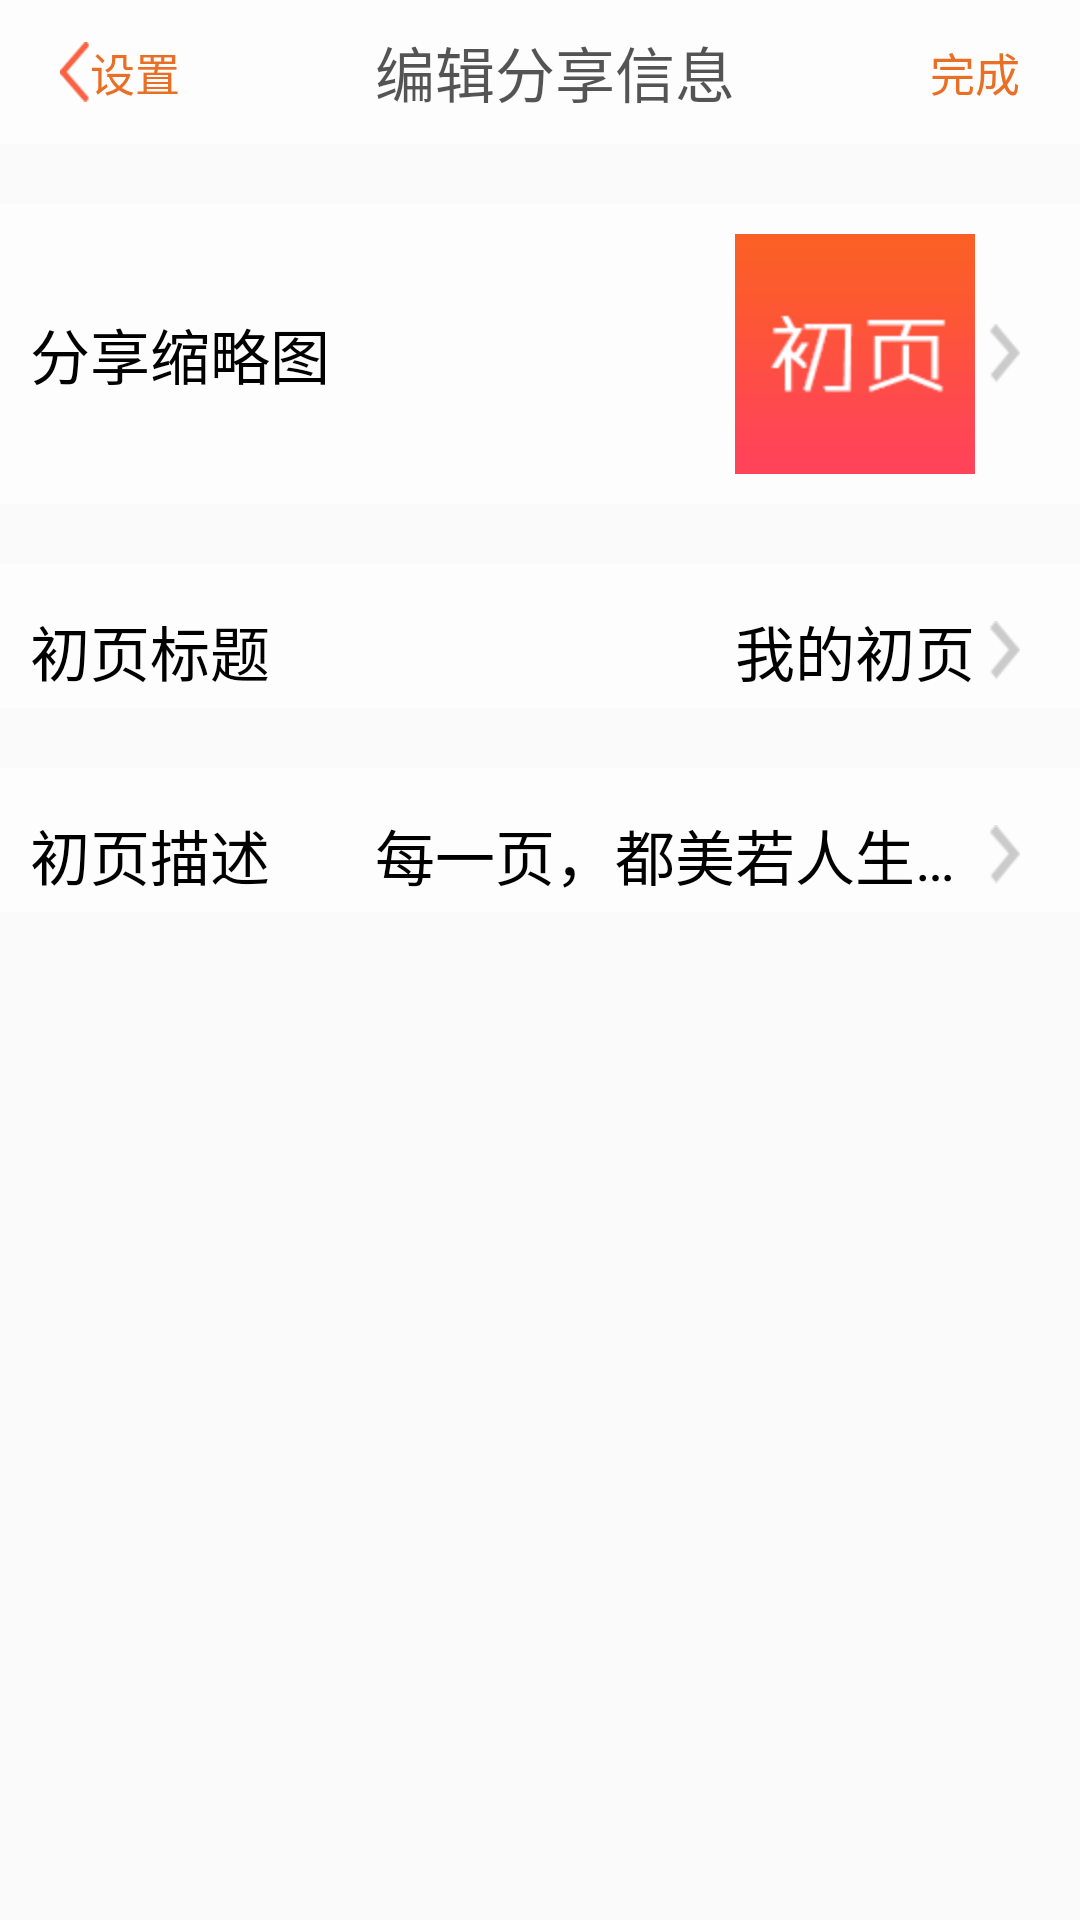

Named icons in this screenshot (1080x1920) and their bounding boxes, (x1, y1, x2, y2):
arrow: (990, 324, 1020, 381), (990, 621, 1020, 678), (990, 825, 1020, 882)
